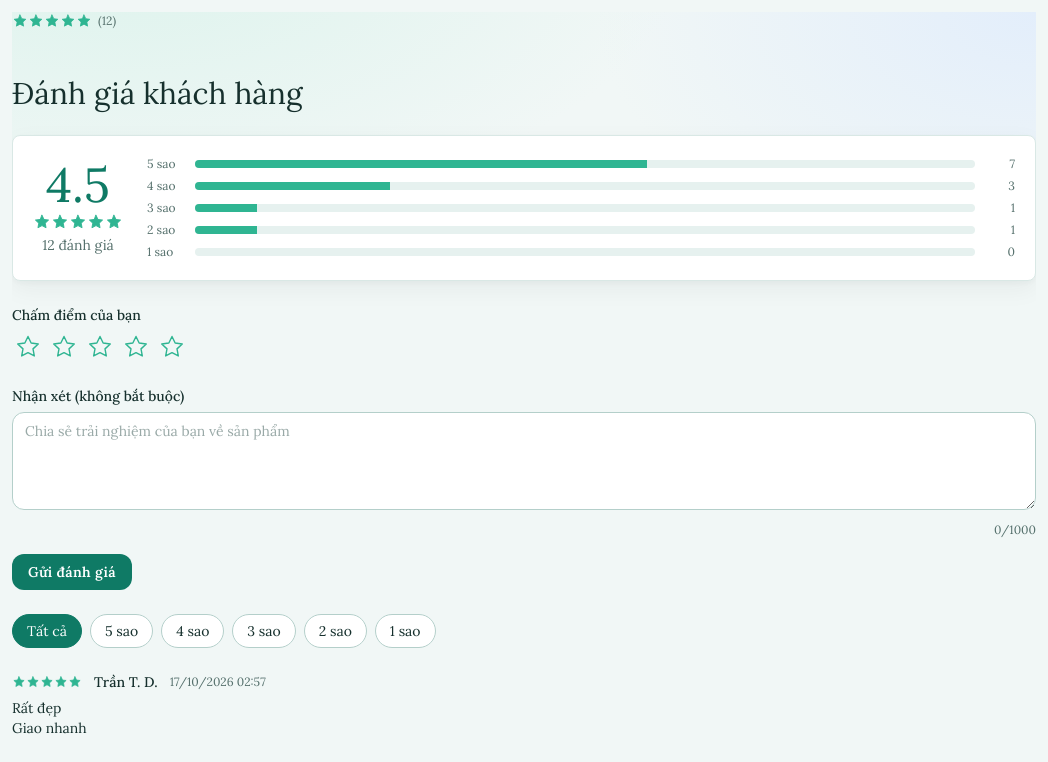
Test case: khung viết đánh giá › tạo đánh giá: gọi API, toast, tải lại danh sách và cập nhật điểm ở đầu trang
Check: the form named "Viết đánh giá" is shown, box left=12, top=305, right=1036, bottom=590
Check: the text "(12)" is shown, box left=98, top=13, right=116, bottom=29
Click the radio button named "5 sao" at point(172, 347), box left=156, top=331, right=188, bottom=363
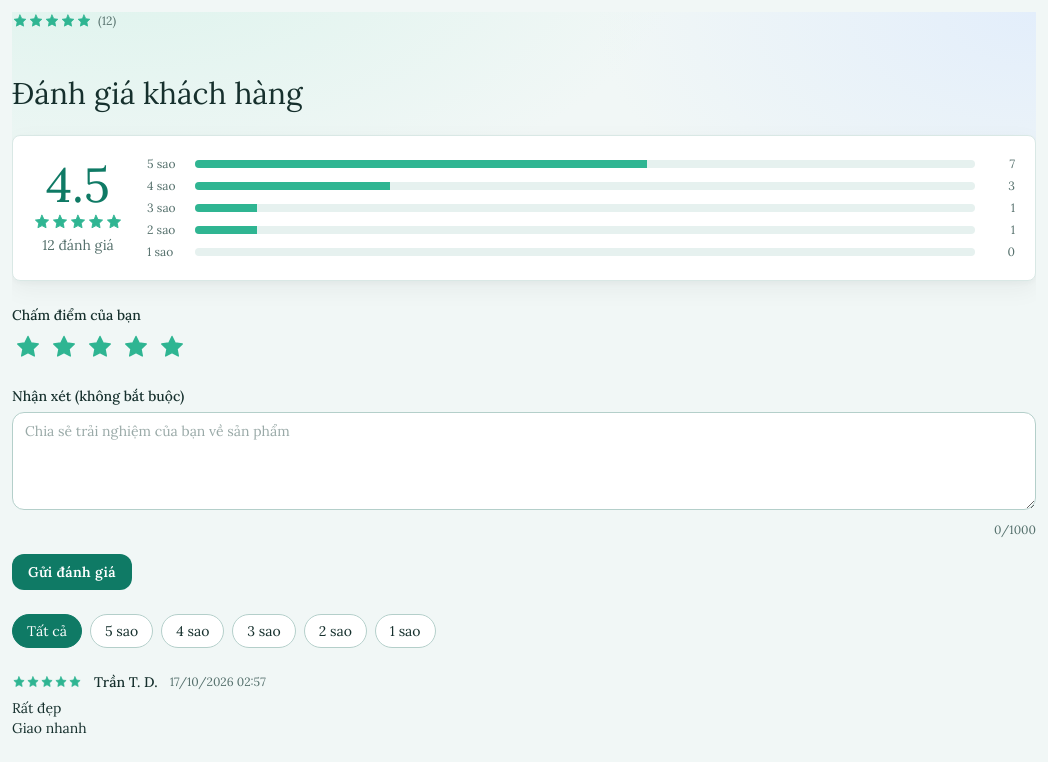
Type "  Tuyệt  " into the text box labelled "Nhận xét (không bắt buộc)" at point(524, 460), box left=12, top=412, right=1036, bottom=510
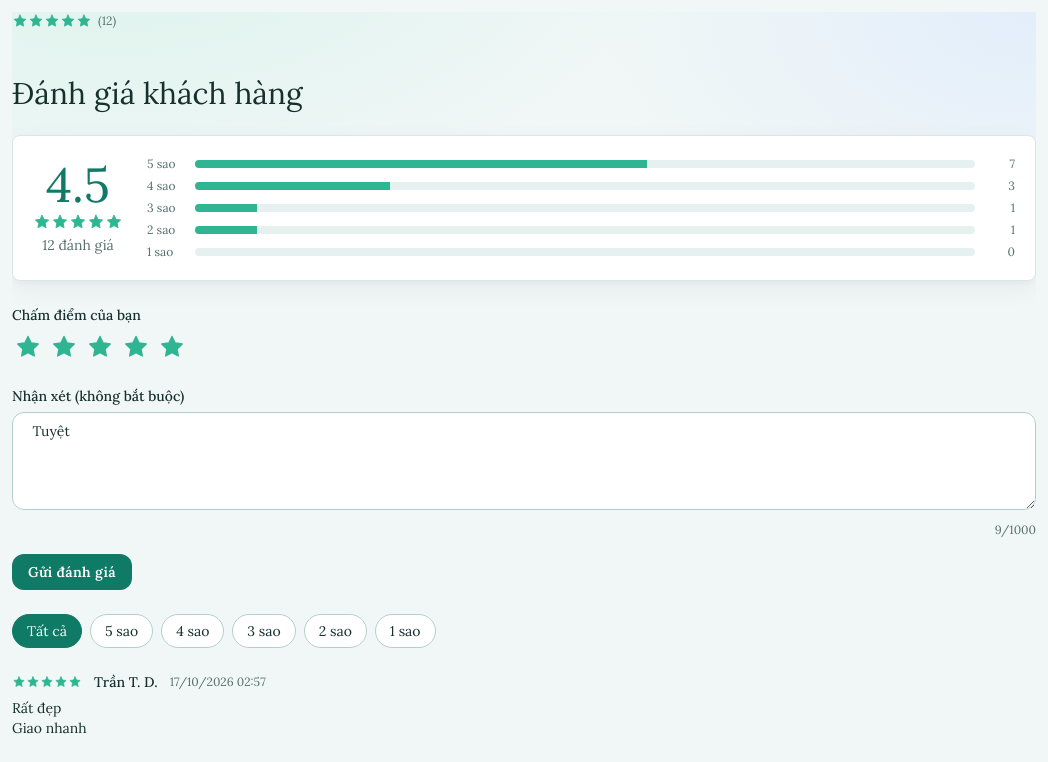
Click the button "Gửi đánh giá" at point(72, 572), box left=12, top=554, right=132, bottom=590
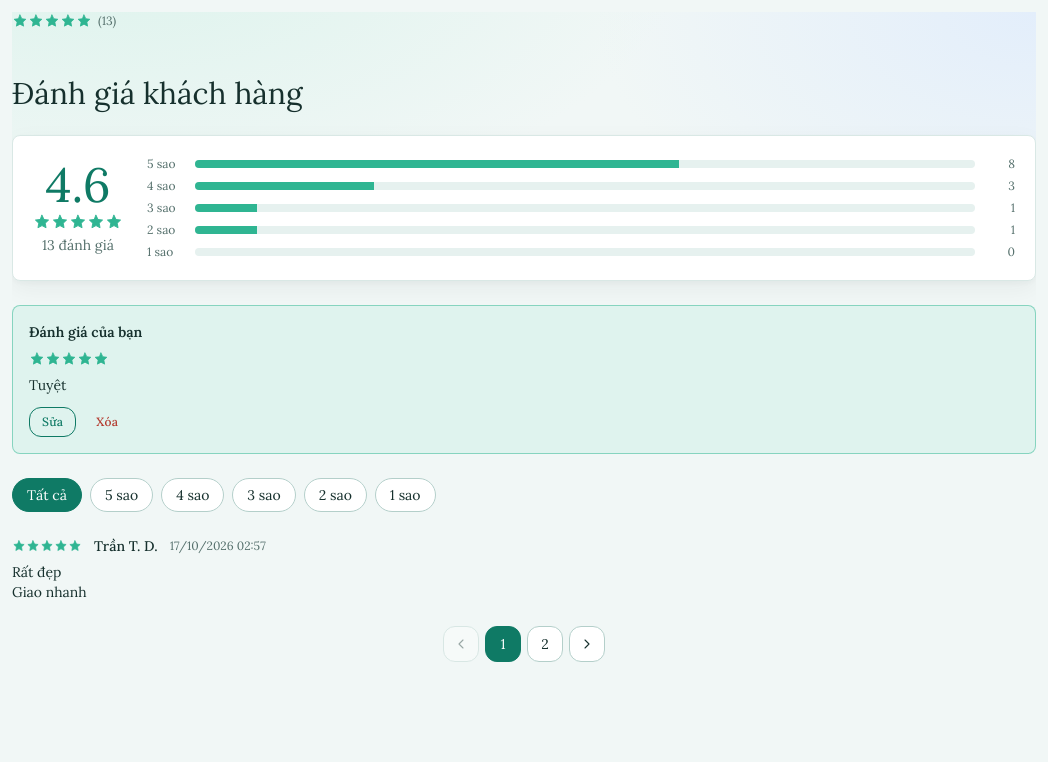
Check: the element labelled "Đánh giá của bạn" is shown, box left=12, top=305, right=1036, bottom=454
Check: the text "(13)" is shown, box left=98, top=13, right=116, bottom=29
Check: the text with test id "review-count" reads "13 đánh giá", box left=42, top=236, right=114, bottom=254
